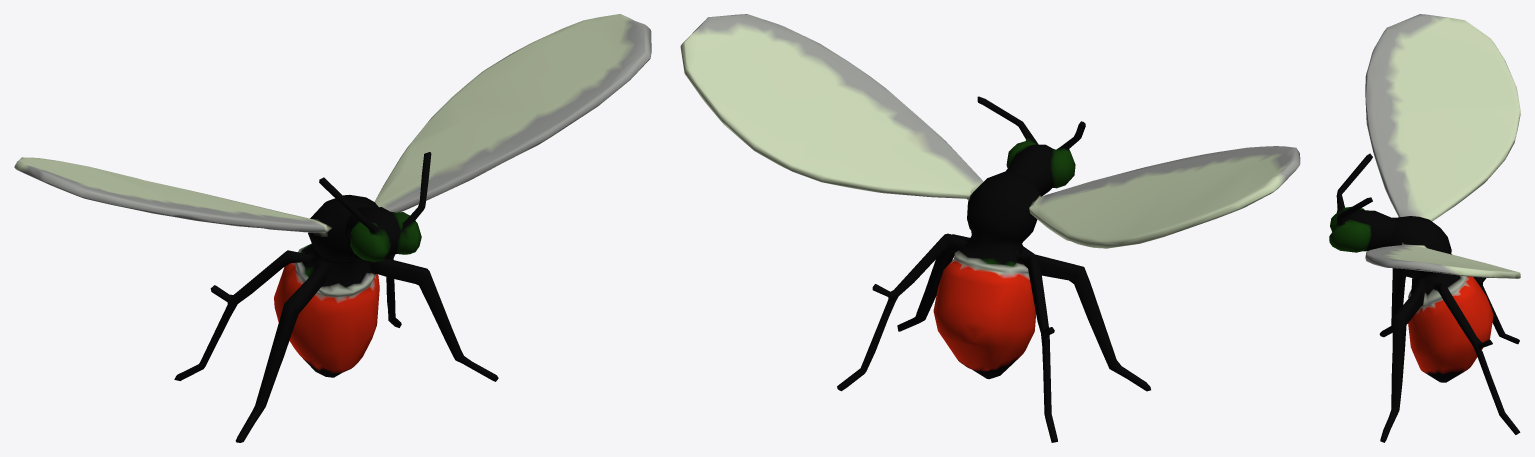
Rendered from gen3d-firefly-lod0.glb.
3 renders of one model, left to right at view 1: azimuth 30°, elevation 25°; view 2: azimuth 150°, elevation 25°; view 3: azimuth 270°, elevation 25°, orthographic. The views are drawn at different scales.
Visible parts, largest first — view 1: part_0; view 2: part_0; view 3: part_0.
Boxes of the visible parts, x1,y1,x2,y2 form: part_0: (14, 14, 651, 442); part_0: (680, 14, 1300, 442); part_0: (1329, 14, 1520, 442).
Size of the model in its own units: 2.15 by 0.9993 by 0.6893.
